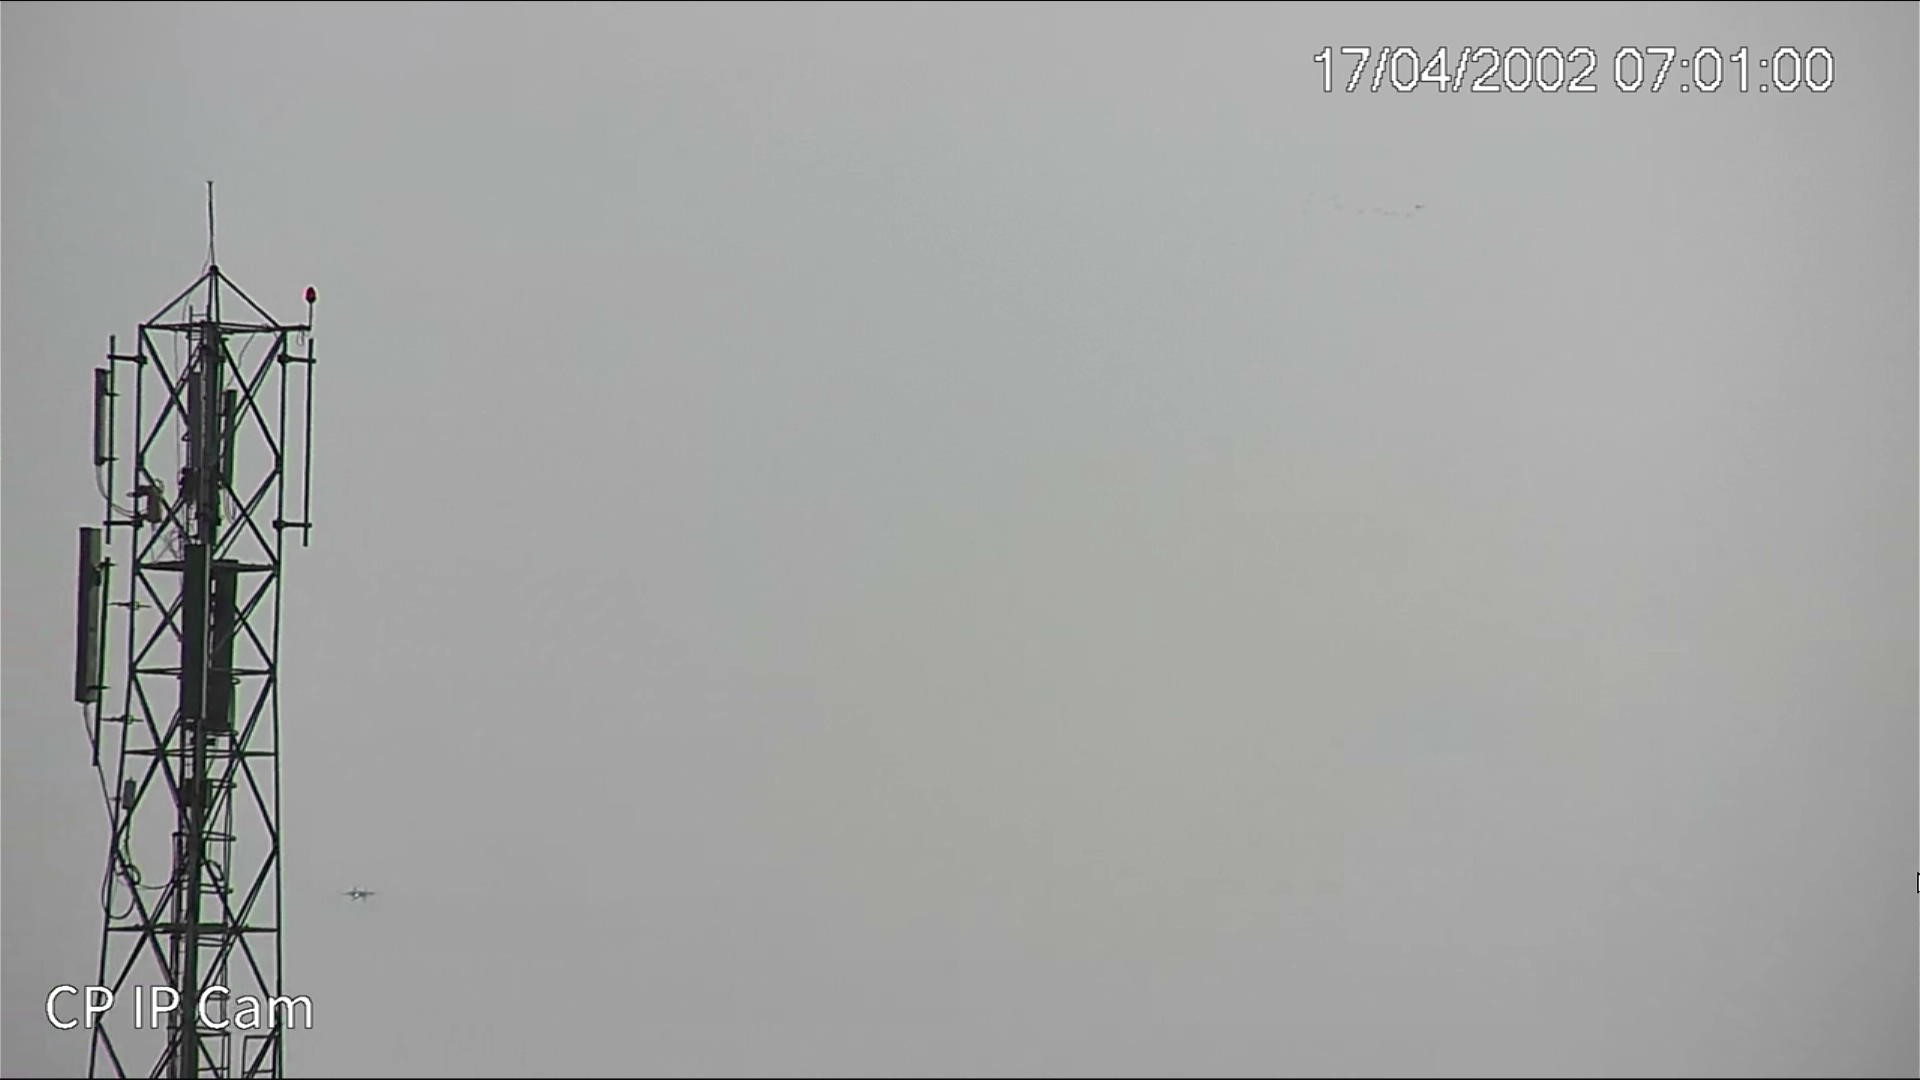SU_30: (342, 885, 375, 901)
